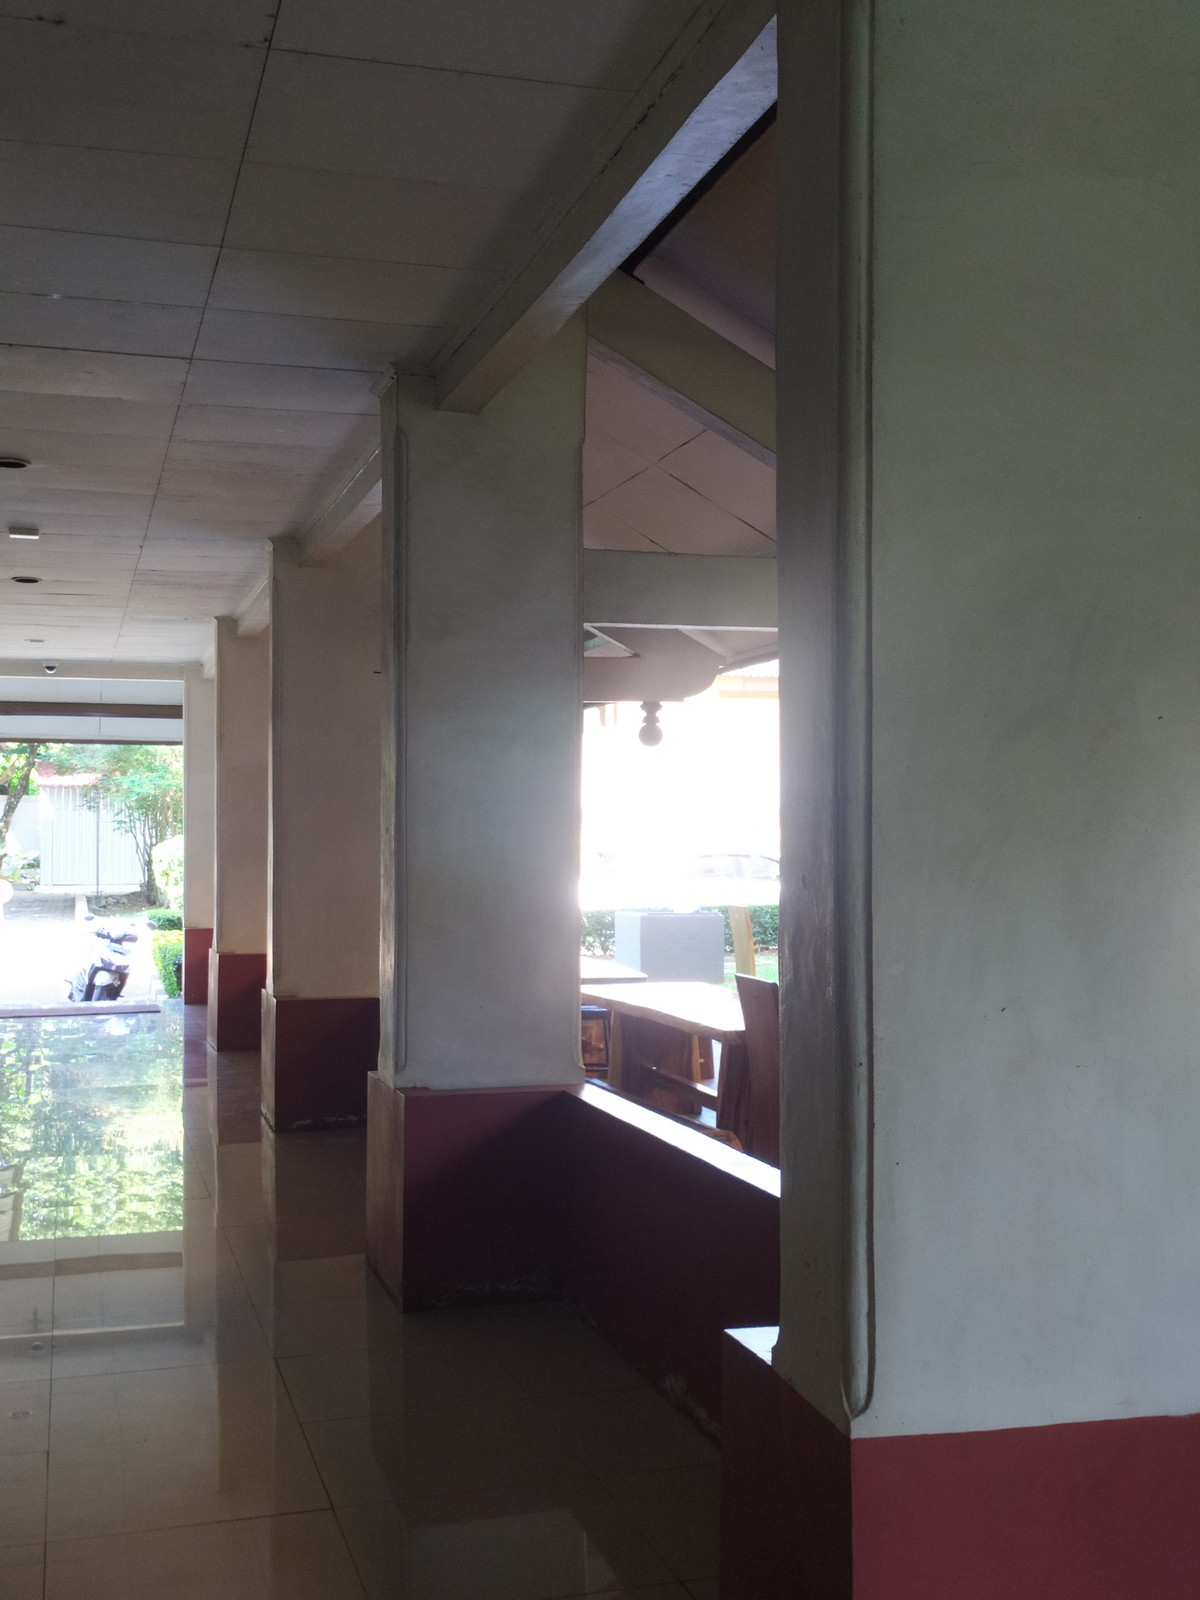concrete beam: (563, 535, 800, 641)
concrete column: (760, 3, 1200, 1450), (371, 351, 597, 1099), (263, 524, 384, 1002), (205, 609, 272, 965)
